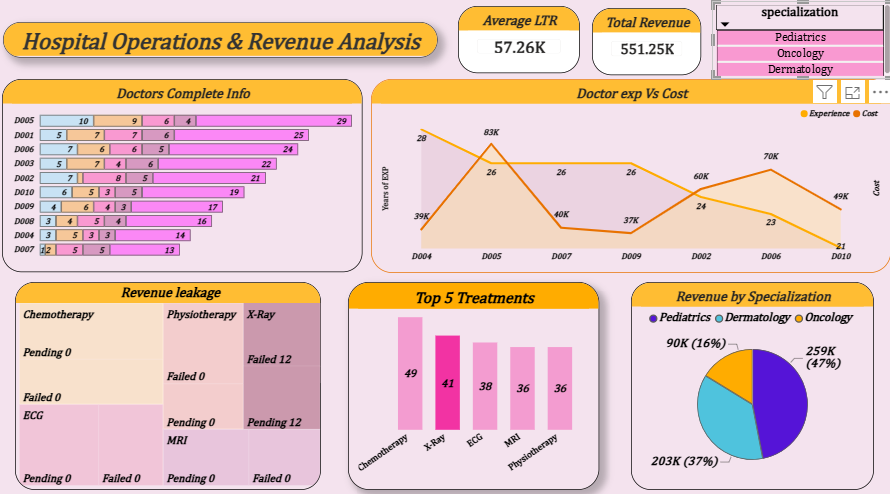

Layout of this report page (visuals, bound fields, positions):
{"tool":"powerbi","page":{"name":"Page 1","canvas":[1280,720],"ordinal":0},"visuals":[{"type":"textbox","title":"Hospital Operations & Revenue Analysis","box":[6.7,40.1,620.6,50.8],"z":0},{"type":"cardVisual","title":"Average LTR","fields":{"Data":["Avg(patient_revenue.patient_ltr)"]},"box":[657.1,17.1,174.3,95.7],"z":1000},{"type":"cardVisual","title":"Total Revenue","fields":{"Data":["Sum(Total revenue generated.total_revenue)"]},"box":[848,20.1,156.5,96.3],"z":2000},{"type":"barChart","title":"Doctors Complete Info","fields":{"Category":["doctor_appointments.doctor_id"],"Y":["Sum(doctor_appointments.total_appointments)","Sum(doctor_appointments.completed_counts)","Sum(doctor_appointments.cancelled_counts)","Sum(doctor_appointments.no_show_counts)","Sum(doctor_appointments.scheduled_counts)"]},"box":[5.4,121.7,514.9,275.5],"z":3000},{"type":"clusteredColumnChart","title":"Top 5 Treatments","fields":{"Category":["top_5_treatments.treatment_type"],"Y":["Sum(top_5_treatments.count_of_treatment)"]},"box":[500,411.4,358.6,297.1],"z":4000},{"type":"treemap","title":"Revenue leakage","fields":{"Group":["no_tret.treatment_type"],"Details":["no_tret.payment_status"],"Values":["CountNonNull(no_tret.payment_method)"]},"box":[24.3,411.4,437.1,297.1],"z":5000},{"type":"areaChart","title":"Doctor exp Vs Cost","fields":{"Y":["Sum(doc_exp_vs_cost.years_experience)"],"Category":["doc_exp_vs_cost.doctor_id"],"Y2":["Sum(doc_exp_vs_cost.total_revenue)"]},"box":[532.9,121.4,742.9,277.1],"z":6000},{"type":"pieChart","title":" Revenue by Specialization","fields":{"Category":["Revenue by specialization.specialization"],"Y":["Sum(Revenue by specialization.Revenue)"]},"box":[904.3,411.4,347.1,297.1],"z":7000},{"type":"tableEx","fields":{"Values":["doc_exp_vs_cost.specialization"]},"box":[1020.3,9.9,259.7,112.1],"z":8000}]}

Visuals, with their boxes in screenshot pixels (x1, y1, x2, y2), scaled from the page's 1280x720 canvas onto the 890x494 screenshot:
"Hospital Operations & Revenue Analysis" textbox: box=[5, 28, 436, 62]
"Average LTR" cardVisual: box=[457, 12, 578, 77]
"Total Revenue" cardVisual: box=[590, 14, 698, 80]
"Doctors Complete Info" barChart: box=[4, 83, 362, 273]
"Top 5 Treatments" clusteredColumnChart: box=[348, 282, 597, 486]
"Revenue leakage" treemap: box=[17, 282, 321, 486]
"Doctor exp Vs Cost" areaChart: box=[371, 83, 887, 273]
" Revenue by Specialization" pieChart: box=[629, 282, 870, 486]
tableEx - doc_exp_vs_cost.specialization: box=[709, 7, 889, 84]
